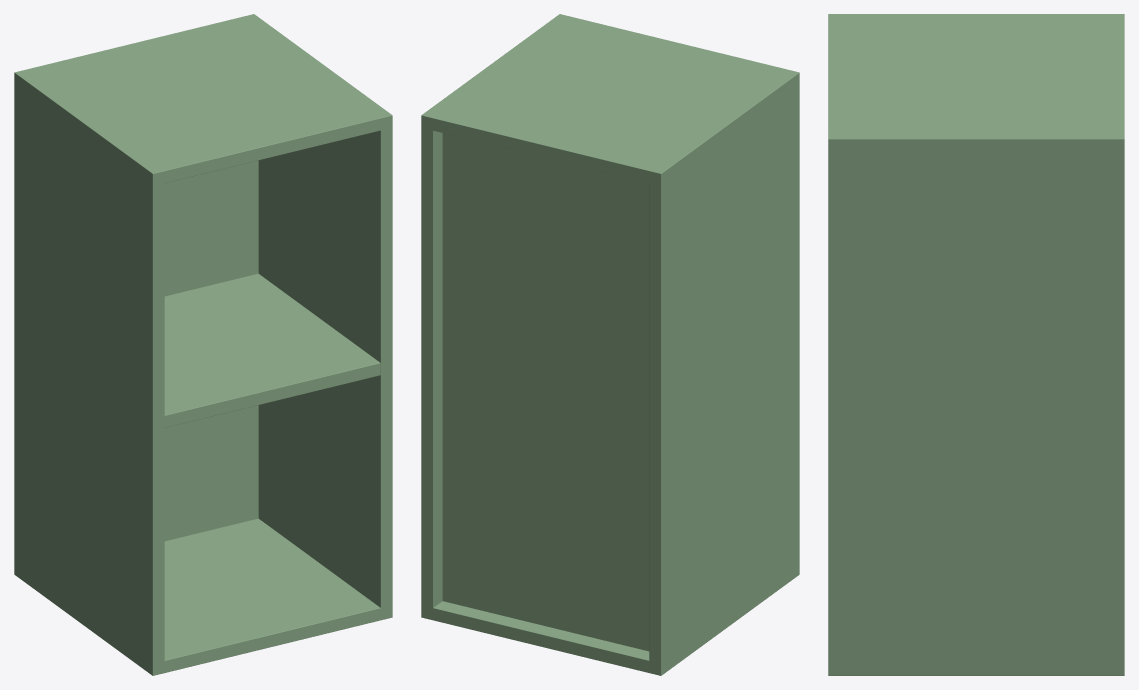
The model's file is MOD-1X2-S-B-SA.glb.
3 renders of one model, left to right at view 1: azimuth 30°, elevation 25°; view 2: azimuth 150°, elevation 25°; view 3: azimuth 270°, elevation 25°, orthographic. The views are drawn at different scales.
Size of the model in its own units: 360 by 720 by 360.
